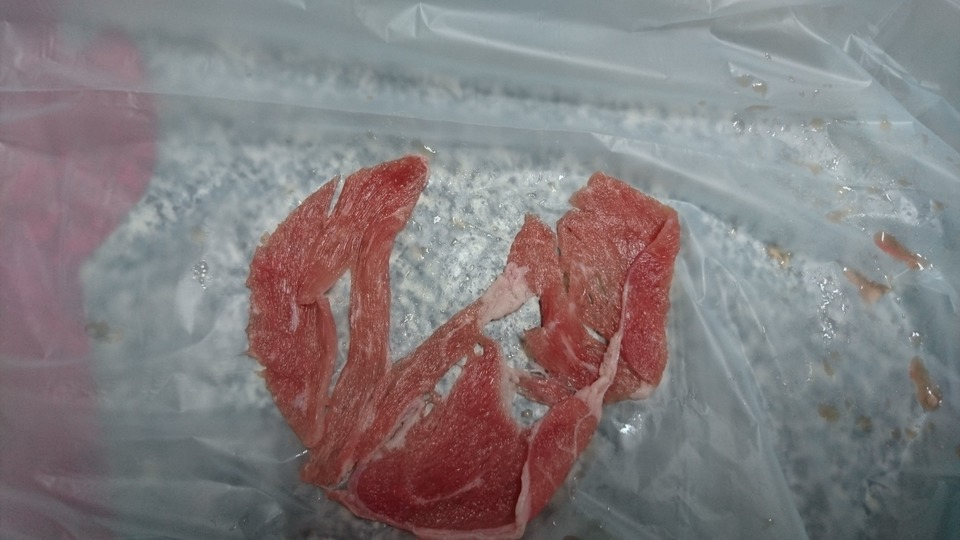restructured meat: (225, 124, 679, 535)
